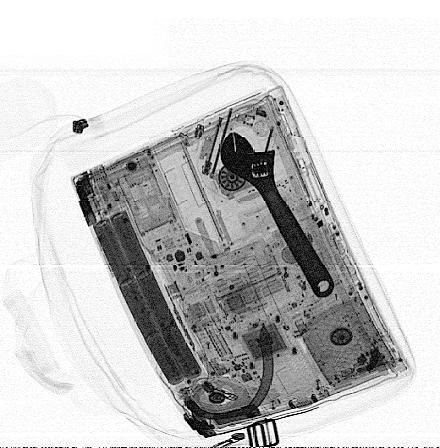Wrench: (220, 130, 335, 298)
